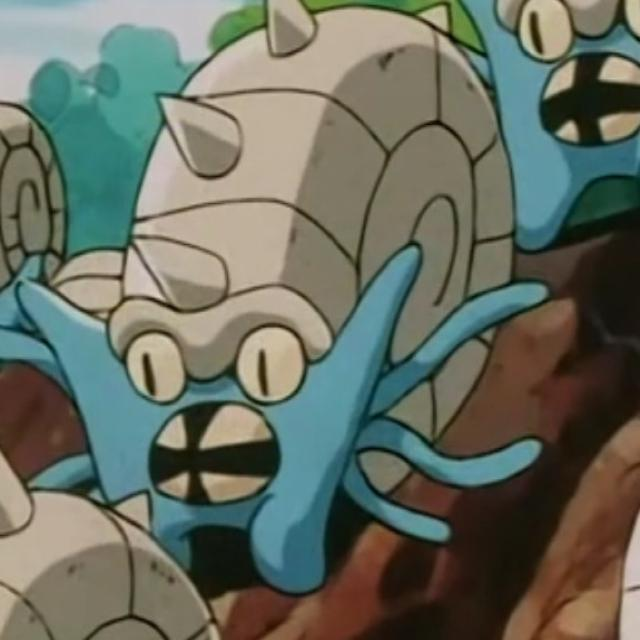Omastar: (84, 11, 478, 562)
